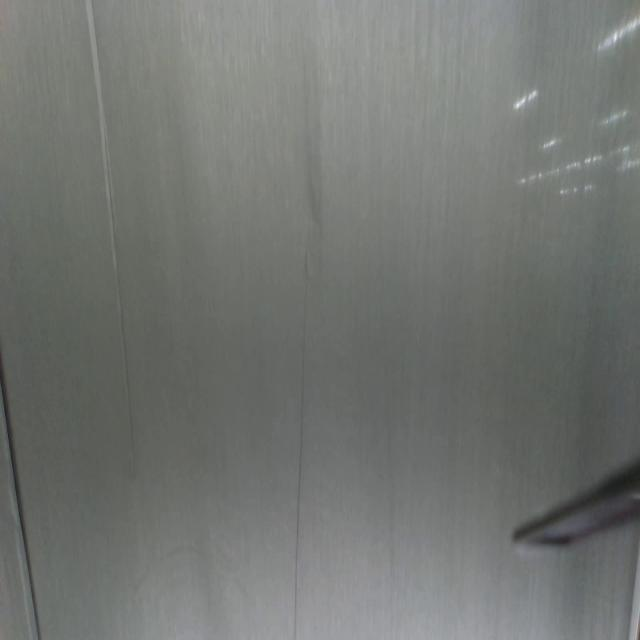crease: (85, 0, 136, 449), (0, 359, 42, 639), (292, 247, 312, 640)
